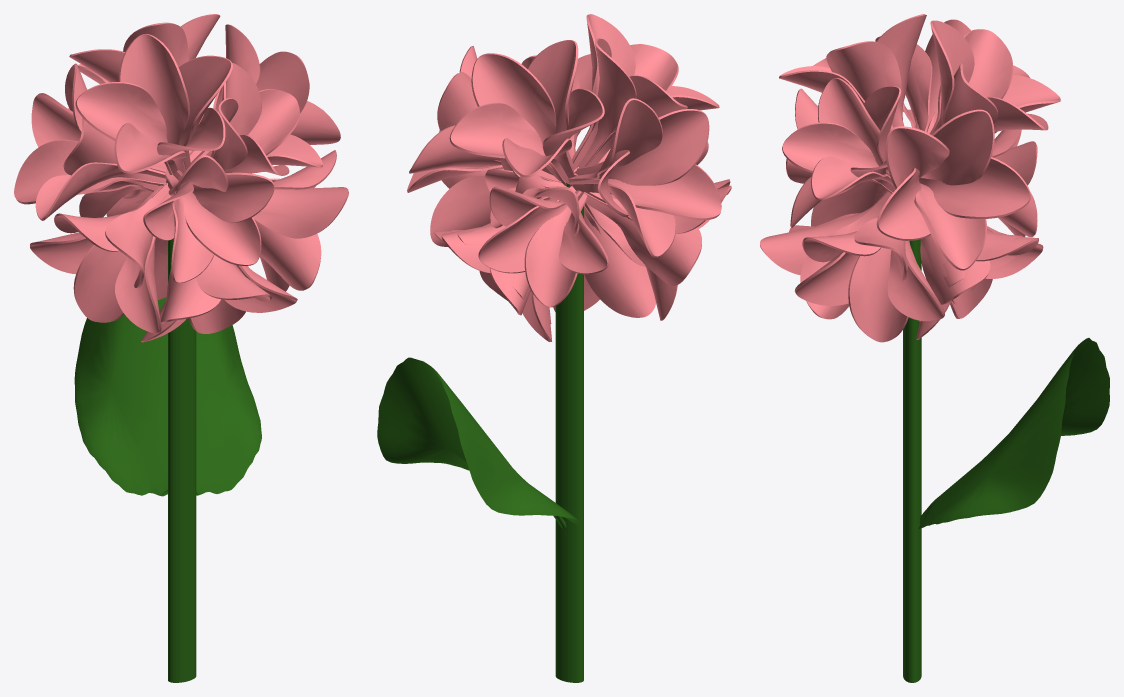
The picture shows the model from 3 angles, left to right: view 1: azimuth 30°, elevation 25°; view 2: azimuth 150°, elevation 25°; view 3: azimuth 270°, elevation 25°; orthographic projection.
Parts seen in each view (by area): view 1: f25; view 2: f25; view 3: f25.
Part boxes in pixels (bbox=[...]): f25: bbox=[14, 14, 348, 682]; f25: bbox=[377, 14, 731, 682]; f25: bbox=[760, 14, 1109, 682].
Bounding box in the file's own units: 0.4293 × 0.9163 × 0.448.
Materials: 2 (1 with a texture image).
